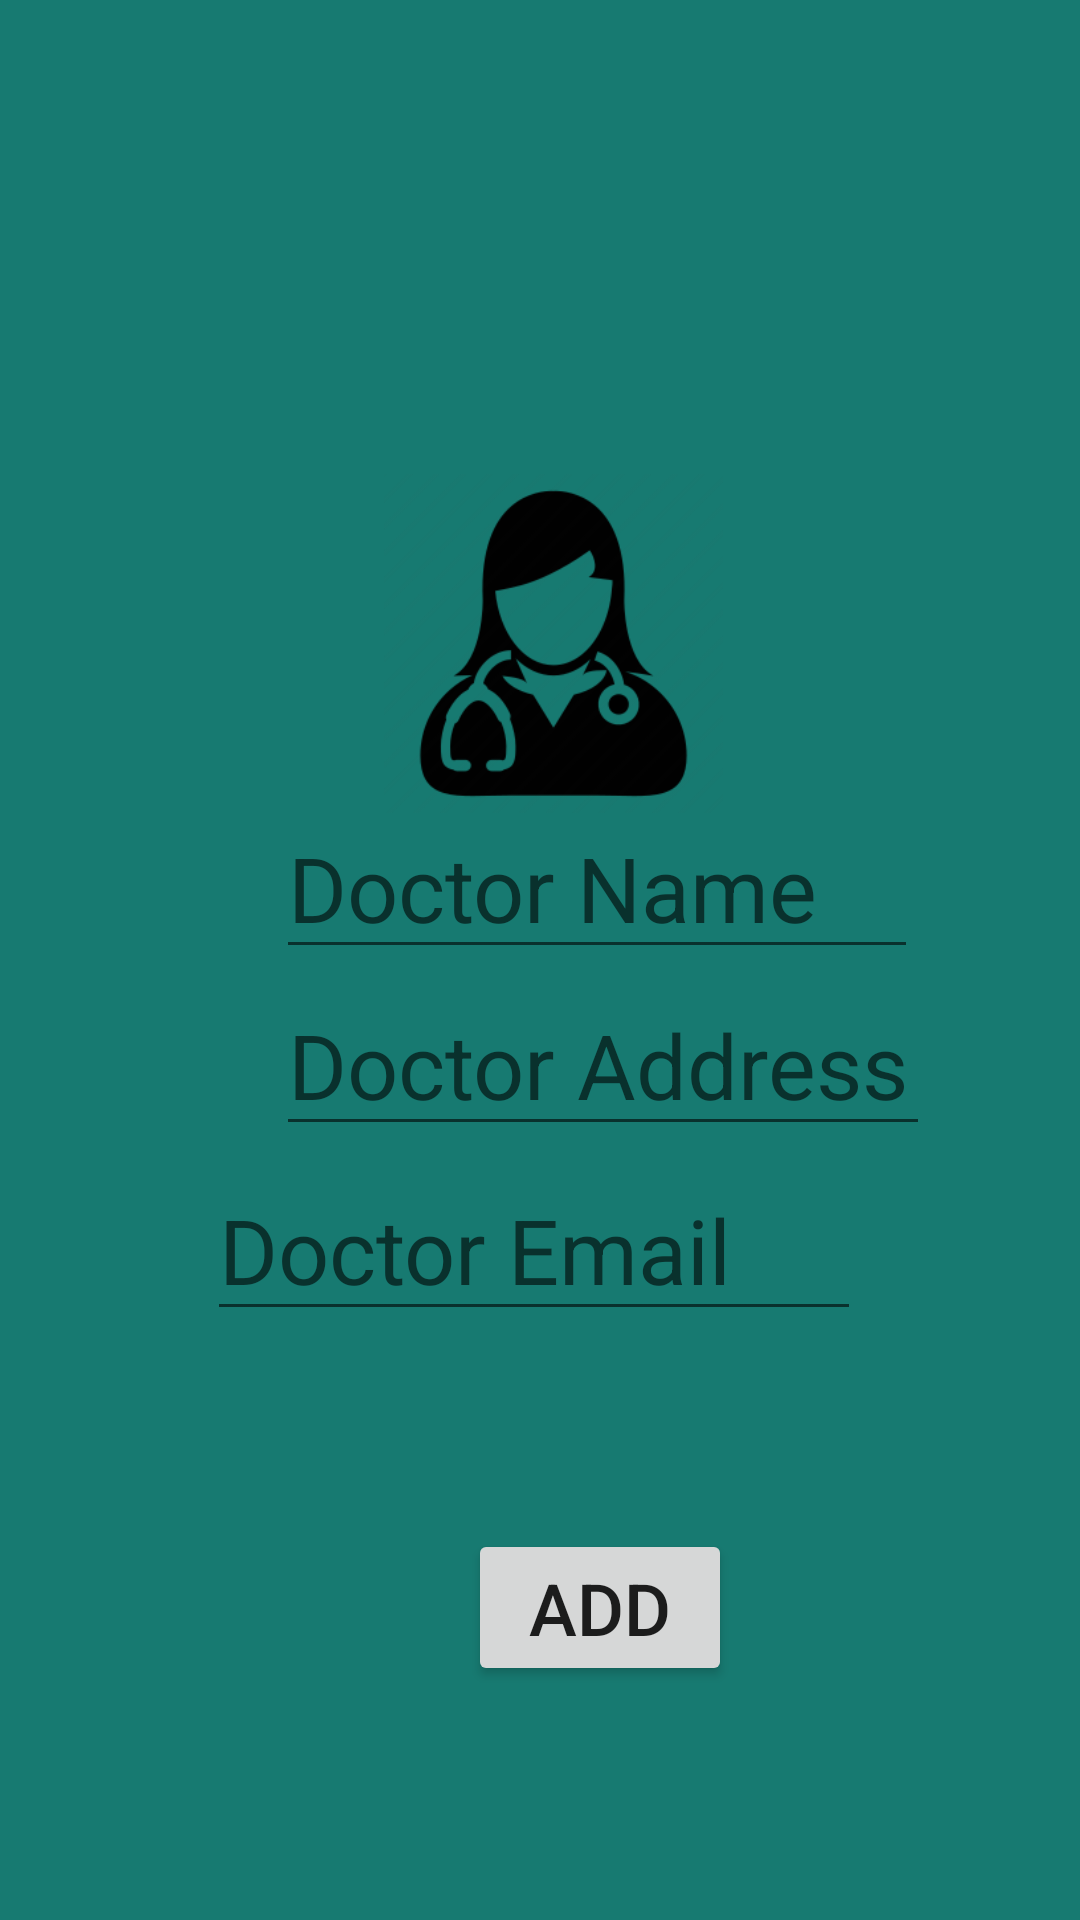

Named icons in this screenshot (1080 x 1920) and their centers, (x=x, y=y):
user: (x=553, y=643)
